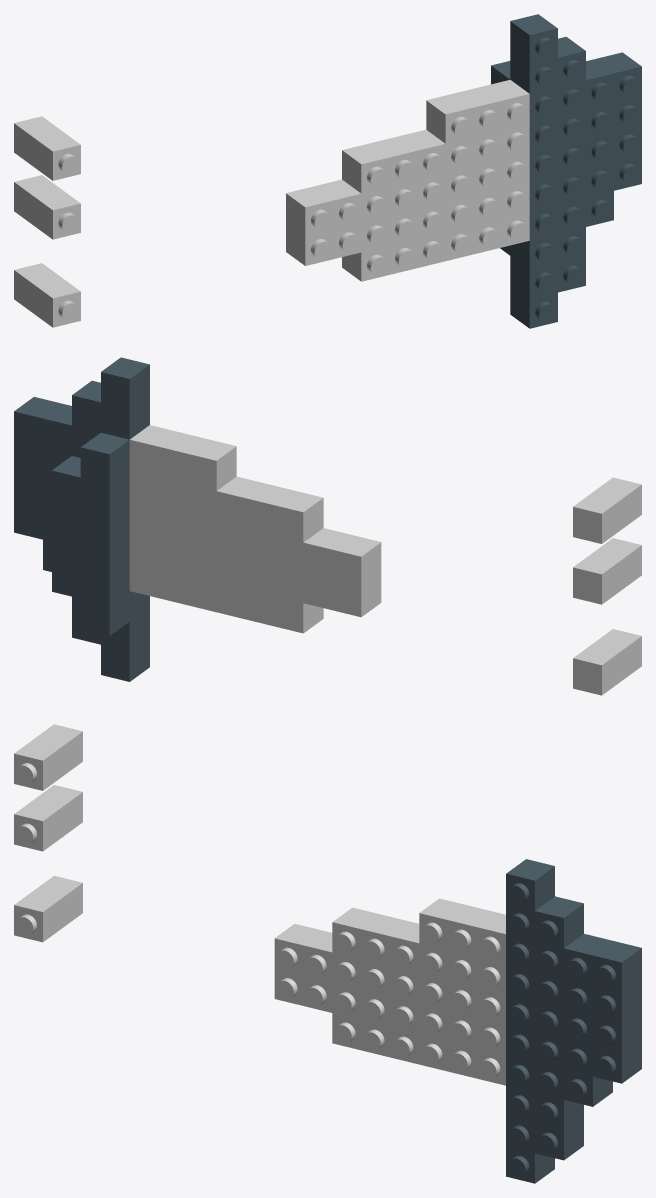
Rendered from full.glb.
3 renders of one model, top to bottom at view 1: azimuth 30°, elevation 25°; view 2: azimuth 150°, elevation 25°; view 3: azimuth 330°, elevation 25°, orthographic. The views are drawn at different scales.
Parts seen in each view (by area): view 1: world; view 2: world; view 3: world.
Part boxes in pixels (x1,y1,x2,y2): world: [14, 14, 641, 328]; world: [14, 357, 641, 695]; world: [14, 724, 641, 1183].
Size of the model in its own units: 168 by 80 by 21.
